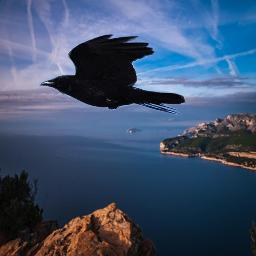Crow: (39, 34, 186, 116)
